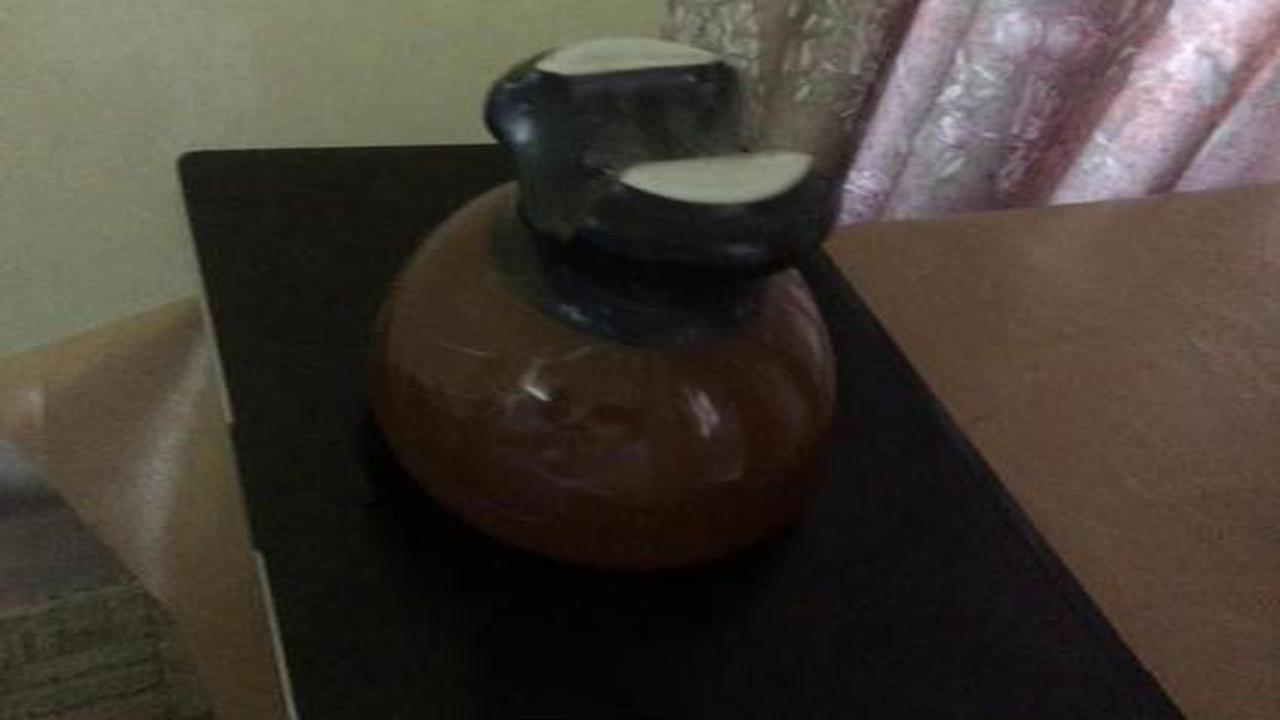insulator_pin: (348, 23, 877, 603)
